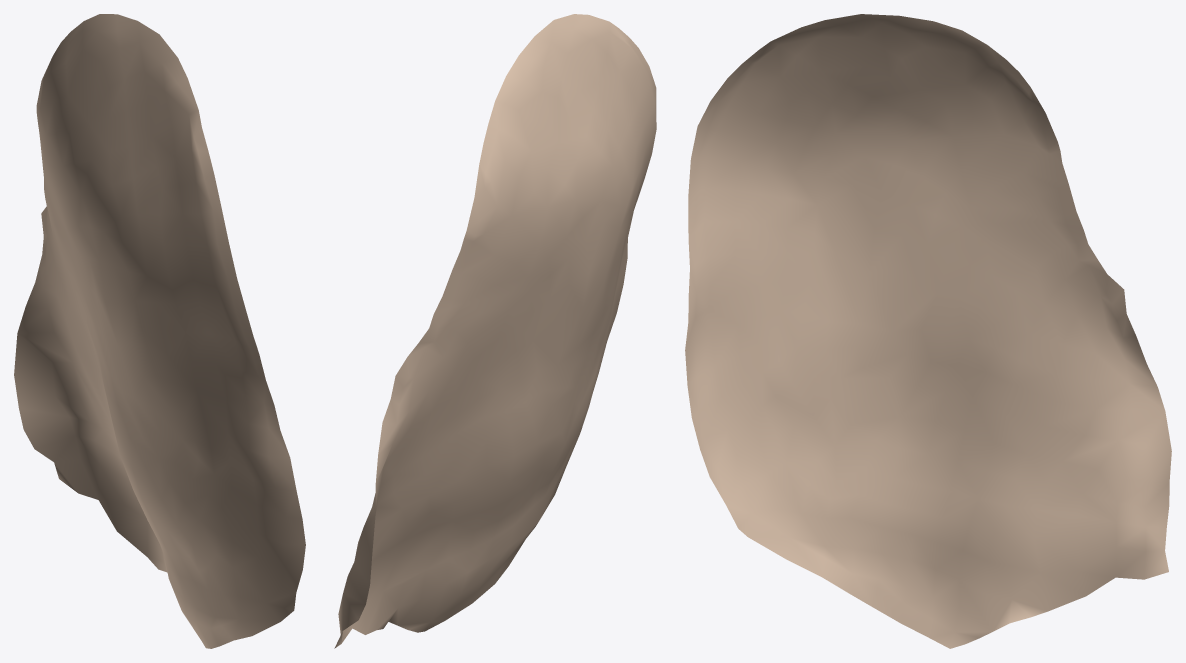
3 views of the same model, side by side, from view 1: azimuth 30°, elevation 25°; view 2: azimuth 150°, elevation 25°; view 3: azimuth 270°, elevation 25° (orthographic). The views are drawn at different scales.
Parts seen in each view (by area): view 1: 右侧颞筋膜浅层; view 2: 右侧颞筋膜浅层; view 3: 右侧颞筋膜浅层.
Boxes of the visible parts, bbox=[...] form: 右侧颞筋膜浅层: bbox=[14, 14, 305, 648]; 右侧颞筋膜浅层: bbox=[334, 14, 656, 648]; 右侧颞筋膜浅层: bbox=[685, 14, 1171, 648].
Bounding box in the file's own units: 0.0419 × 0.1677 × 0.1245.
